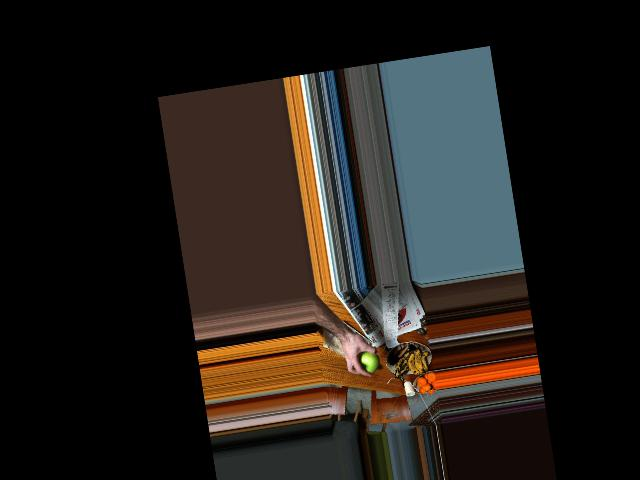apple: (354, 348, 381, 377)
